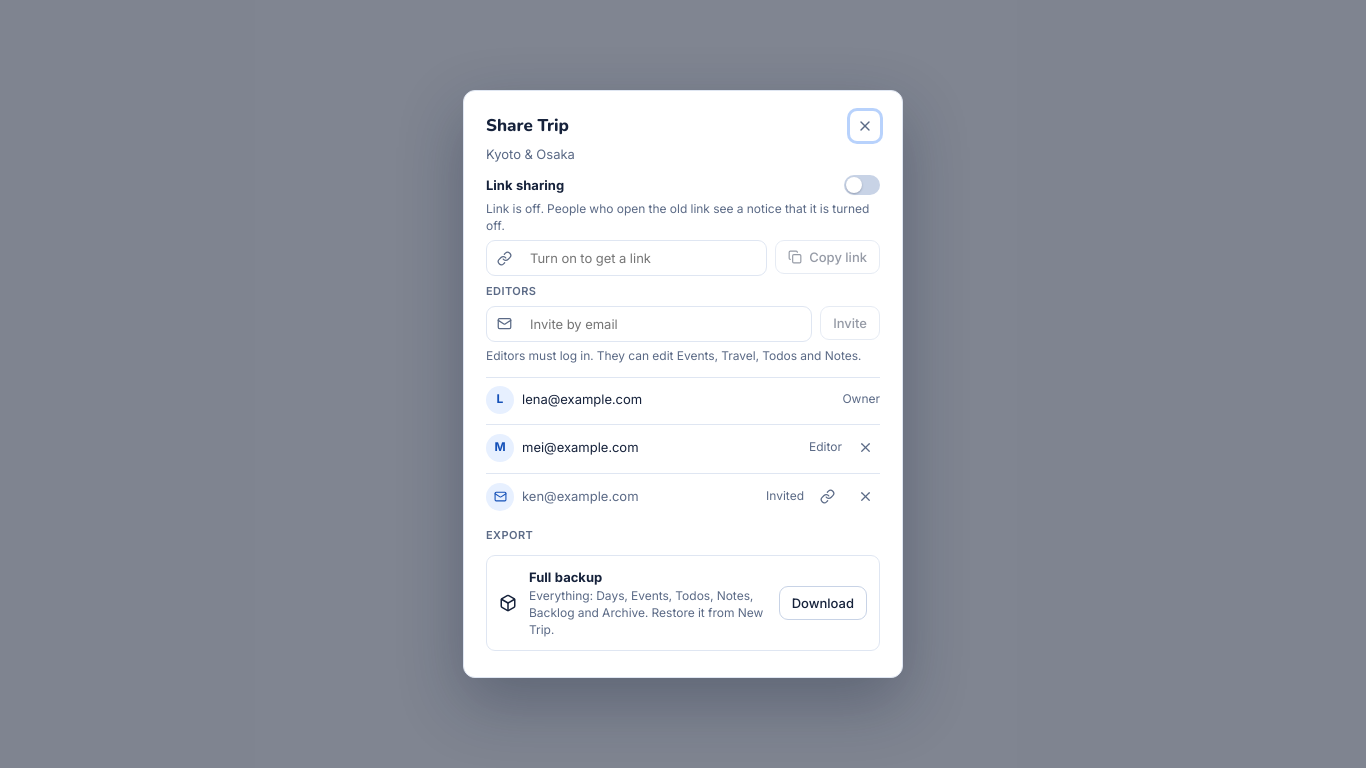
Test: ShareDialog › says when the backup could not be saved
Click the button "Download" at (823, 603), box left=779, top=586, right=867, bottom=620
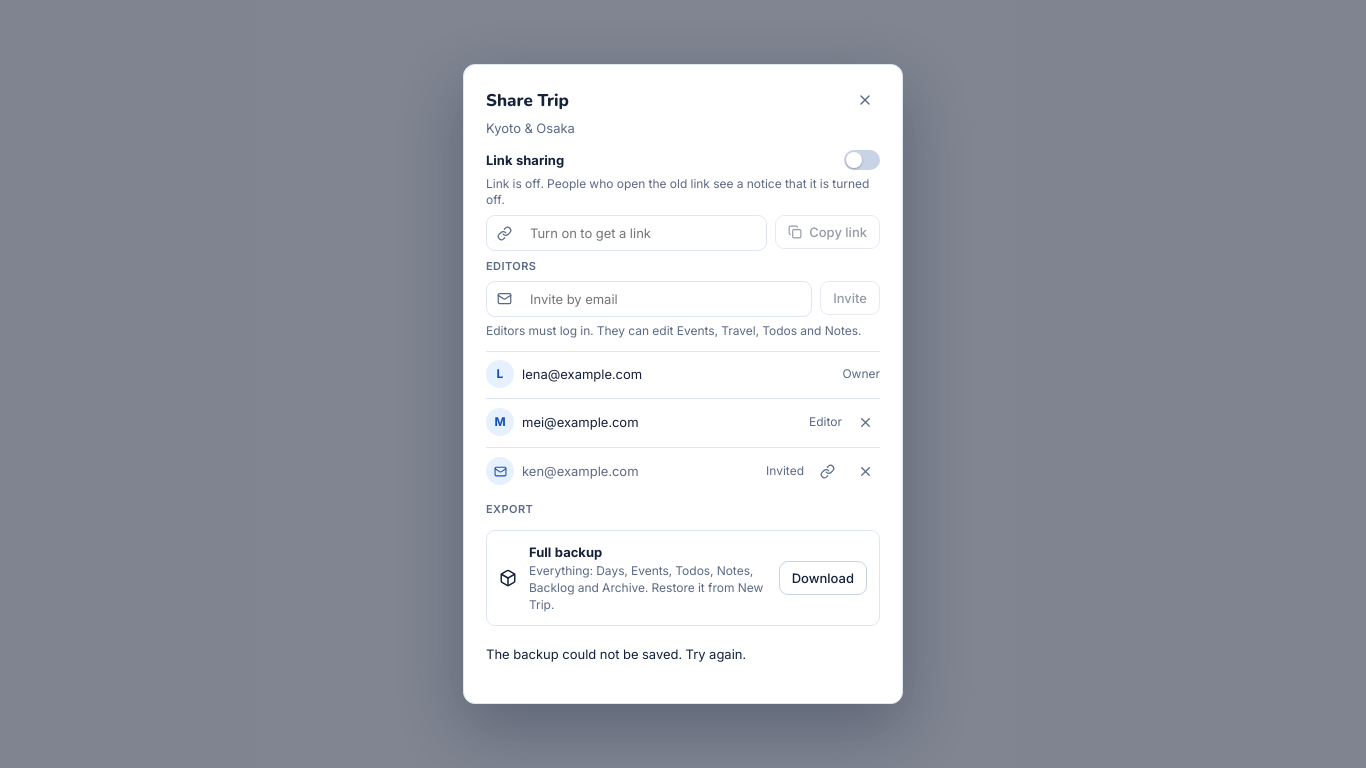
Result: the message reads "The backup could not be saved. Try again." at left=486, top=646, right=746, bottom=662
